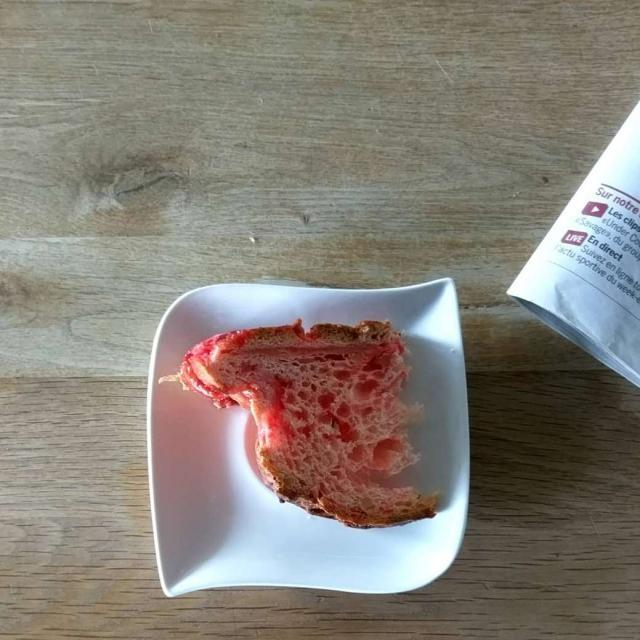bread: (183, 325, 433, 530)
